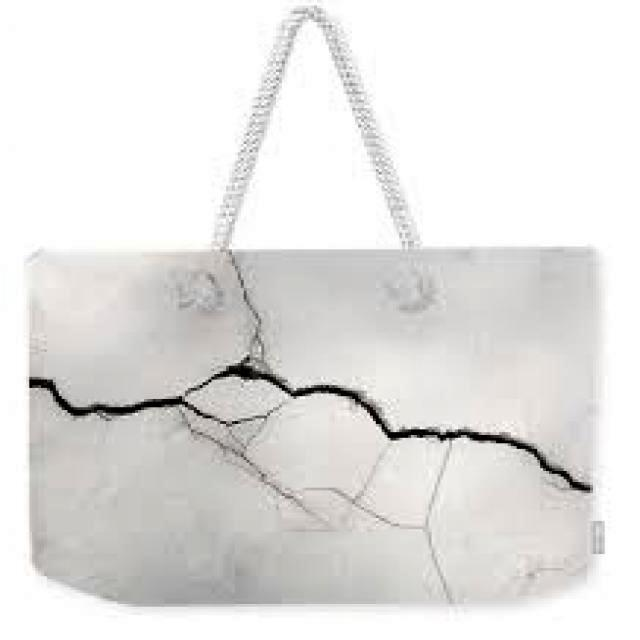Damage-bag: (29, 251, 592, 603)
